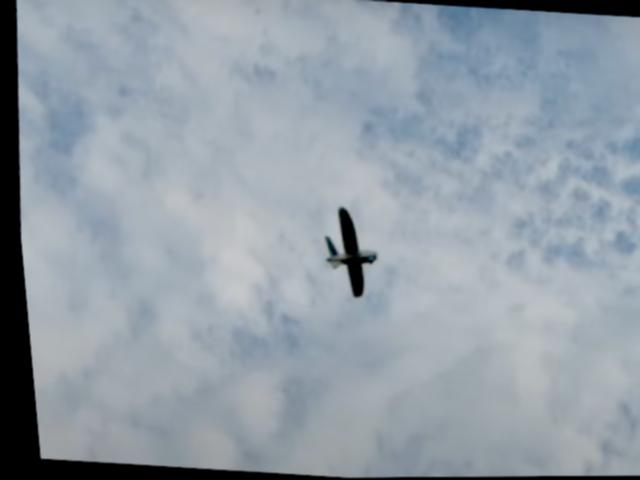uav: (304, 197, 386, 310)
